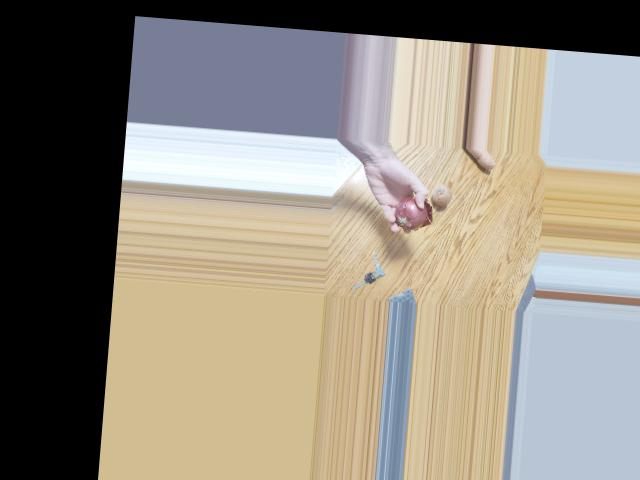onion: (395, 198, 427, 229)
